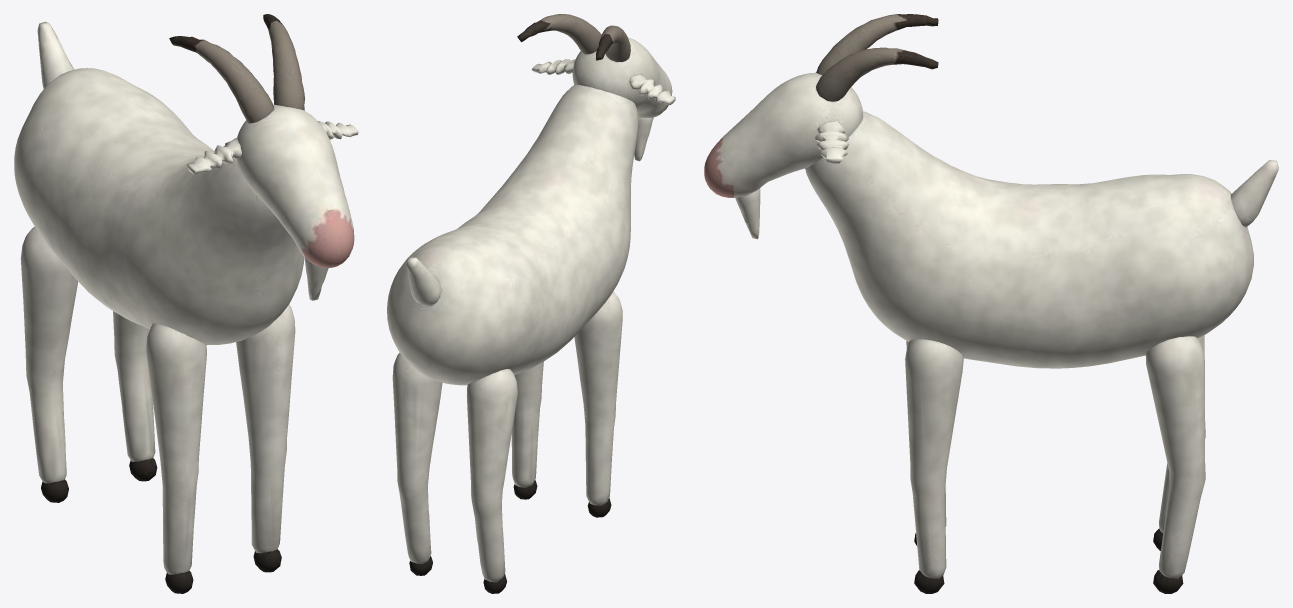
The model's file is animal_goat.glb.
The picture shows the model from 3 angles, left to right: view 1: azimuth 30°, elevation 25°; view 2: azimuth 150°, elevation 25°; view 3: azimuth 270°, elevation 25°; orthographic projection. The views are drawn at different scales.
Visible parts, largest first — view 1: animal_goat, head, leg0, leg2, leg1, leg3, tail; view 2: animal_goat, head, leg2, leg3, leg0, leg1, tail; view 3: animal_goat, head, leg3, leg1, tail.
Boxes of the visible parts, box(x1,y1,x2,y2) form: animal_goat: box(14, 68, 304, 344); head: box(169, 14, 358, 300); leg0: box(146, 323, 206, 593); leg2: box(20, 226, 77, 502); leg1: box(236, 304, 295, 572); leg3: box(113, 311, 157, 481); tail: box(37, 21, 74, 88); animal_goat: box(387, 84, 638, 385); head: box(517, 14, 675, 161); leg2: box(466, 369, 517, 593); leg3: box(392, 352, 442, 575); leg0: box(574, 291, 622, 517); leg1: box(511, 361, 543, 499); tail: box(406, 257, 441, 306); animal_goat: box(805, 111, 1253, 368); head: box(704, 14, 938, 239); leg3: box(1146, 336, 1205, 593); leg1: box(905, 339, 963, 593); tail: box(1231, 160, 1278, 227).
Size of the model in its own units: 0.1574 by 0.5116 by 0.4929.
1 material, 1 textured.
